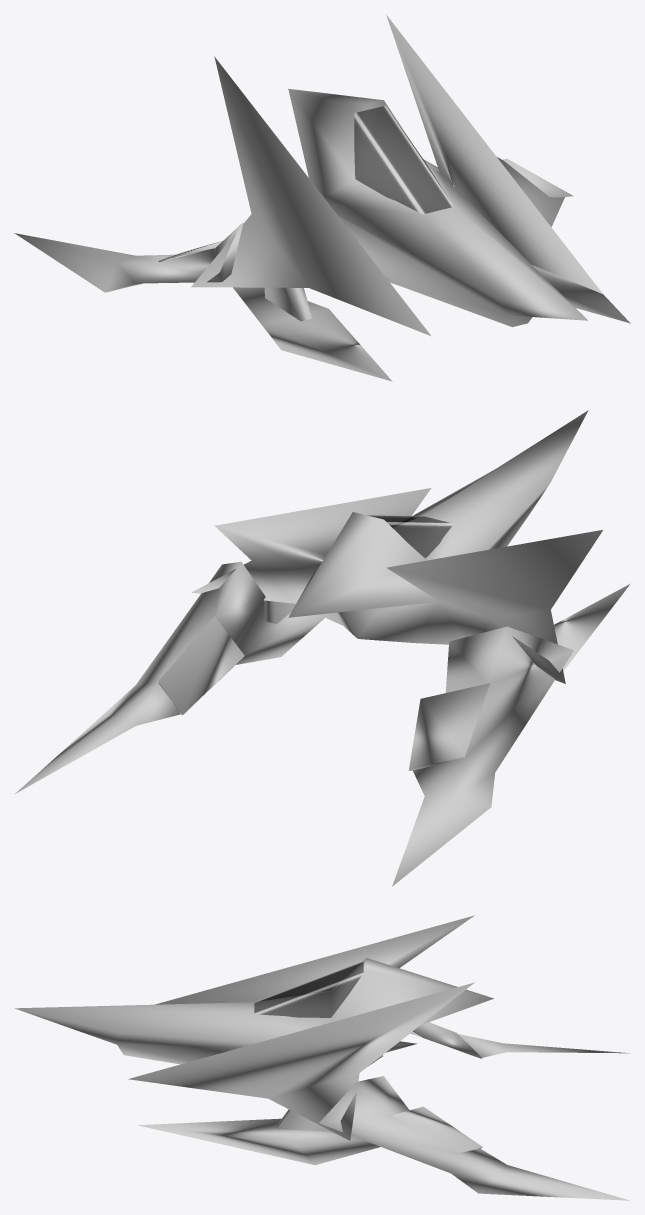
File: arwingNew20.obj
3 renders of one model, top to bottom at view 1: azimuth 30°, elevation 25°; view 2: azimuth 150°, elevation 25°; view 3: azimuth 270°, elevation 25°, orthographic. The views are drawn at different scales.
Parts seen in each view (by area): view 1: Arwing.002; view 2: Arwing.002; view 3: Arwing.002.
Boxes of the visible parts, bbox=[...] form: Arwing.002: bbox=[14, 15, 630, 381]; Arwing.002: bbox=[15, 410, 630, 886]; Arwing.002: bbox=[15, 915, 629, 1200].
Size of the model in its own units: 3.9 by 2.15 by 6.74.
